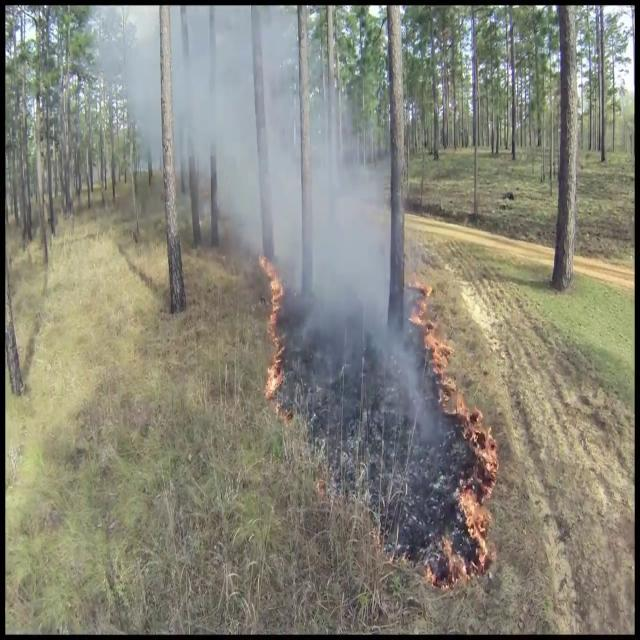Fire: (255, 247, 289, 397)
Smoke: (98, 0, 380, 216), (298, 76, 445, 472)
